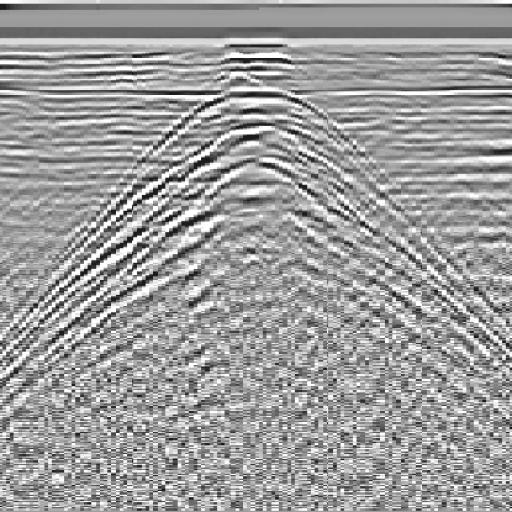metalic: (59, 52, 475, 405)
